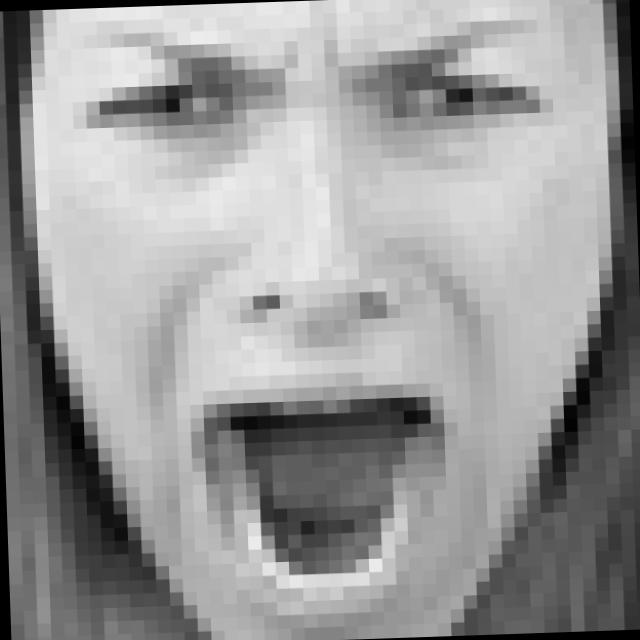angry: (63, 5, 573, 640)
